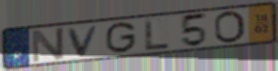5: (178, 12, 209, 48)
G: (104, 20, 138, 55)
L: (143, 18, 171, 52)
N: (30, 26, 66, 64)
O: (213, 10, 248, 45)
V: (66, 24, 102, 58)
